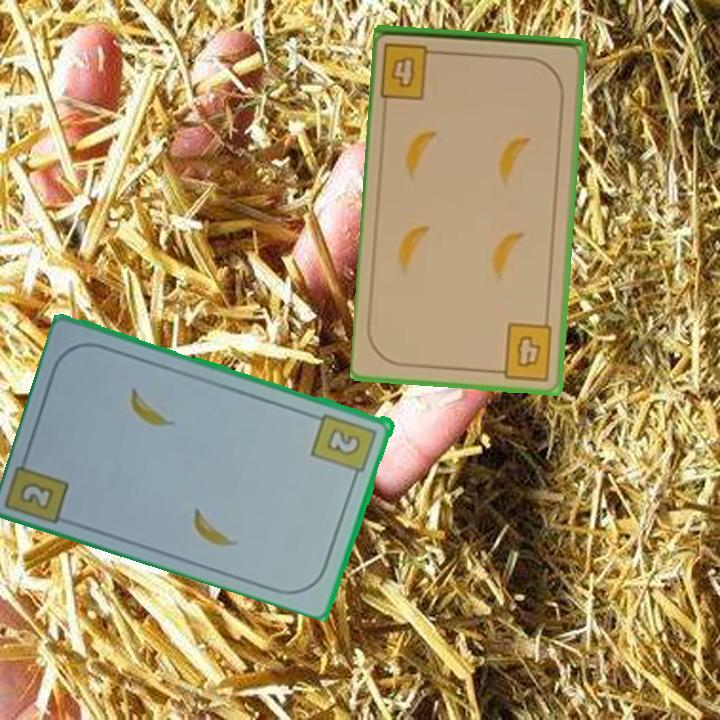2b: (309, 410, 380, 483), (16, 478, 58, 513)
4b: (377, 39, 446, 102), (490, 319, 556, 383)
